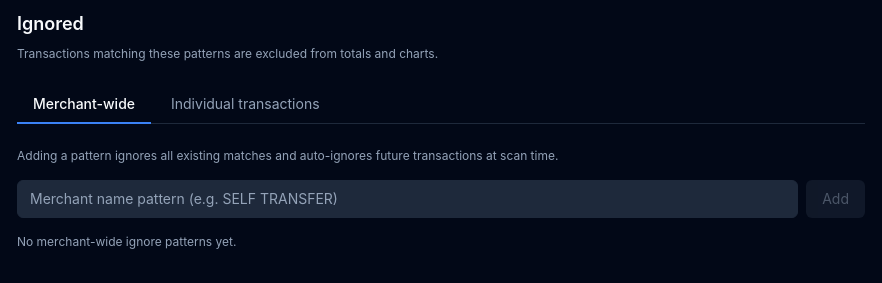
IgnoredPage › suggests transaction merchants while adding a merchant-wide pattern
The image size is (882, 283).
Type "corner" into the field at (408, 199), box [17,180,798,218]
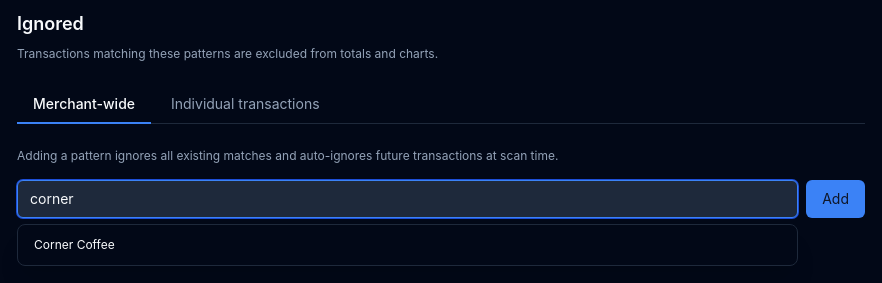
Now the button "Corner Coffee" is shown, box [22,229,793,261]
